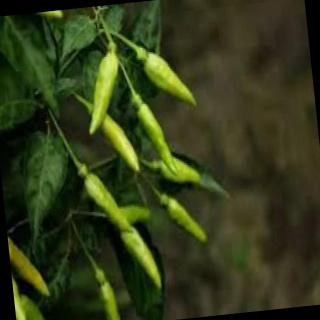Cabai Hijau: (79, 168, 133, 232), (138, 47, 197, 105), (135, 95, 175, 171), (120, 225, 161, 290), (9, 237, 54, 295), (90, 55, 118, 137), (96, 118, 139, 170), (159, 193, 205, 240), (98, 272, 121, 320)
